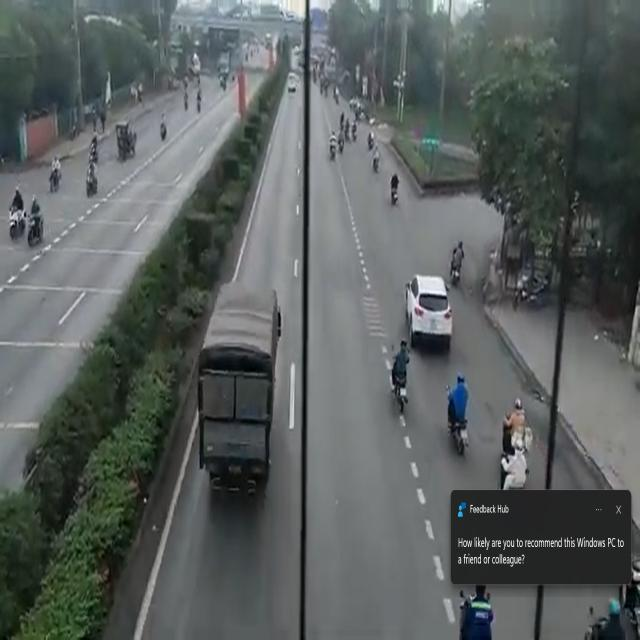car: (406, 267, 450, 343)
motorbike: (442, 368, 470, 451), (388, 331, 411, 423), (448, 236, 469, 290), (26, 198, 42, 251), (7, 188, 22, 243), (496, 404, 512, 451)
truck: (204, 275, 274, 497)
